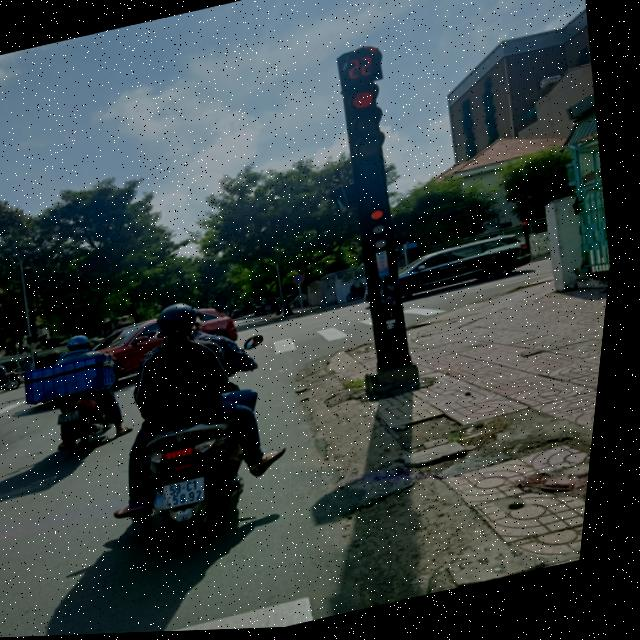Red: (338, 79, 398, 169), (354, 201, 407, 264)
